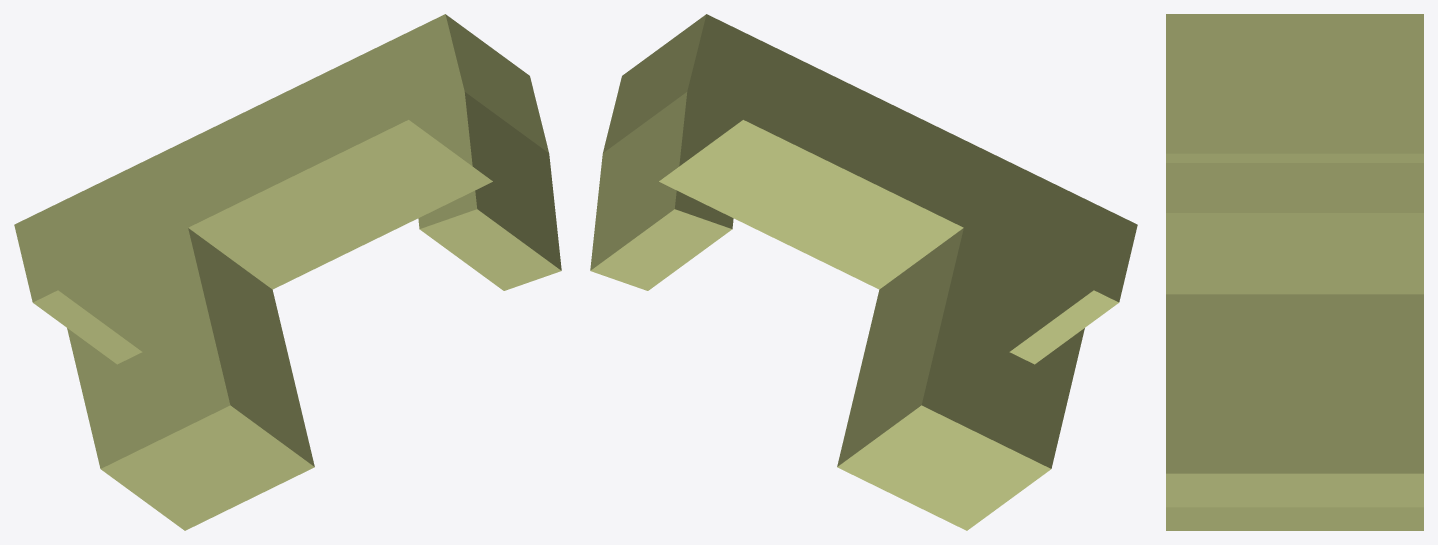
3 views of the same model, side by side, from view 1: azimuth 30°, elevation 25°; view 2: azimuth 150°, elevation 25°; view 3: azimuth 270°, elevation 25° (orthographic). The views are drawn at different scales.
Visible parts, largest first — view 1: 0_3_2_0_2_1_2_0_0; view 2: 0_3_2_0_2_1_2_0_0; view 3: 0_3_2_0_2_1_2_0_0.
Boxes of the visible parts, x1,y1,x2,y2 form: 0_3_2_0_2_1_2_0_0: (14, 14, 561, 530); 0_3_2_0_2_1_2_0_0: (590, 14, 1137, 530); 0_3_2_0_2_1_2_0_0: (1166, 14, 1423, 530).
Size of the model in its own units: 28.46 by 21.79 by 9.
